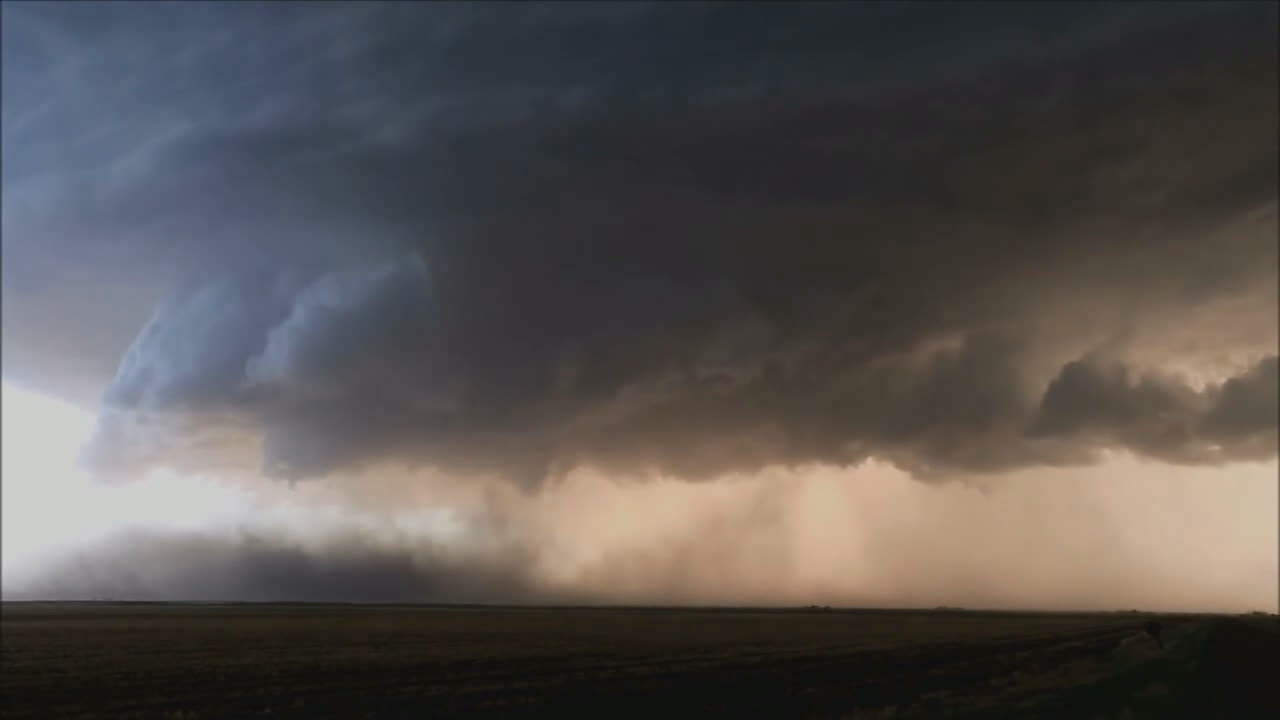RFD: (37, 476, 1276, 604)
mesocyclone: (0, 3, 1279, 434)
wall cloud: (99, 243, 1277, 491)
